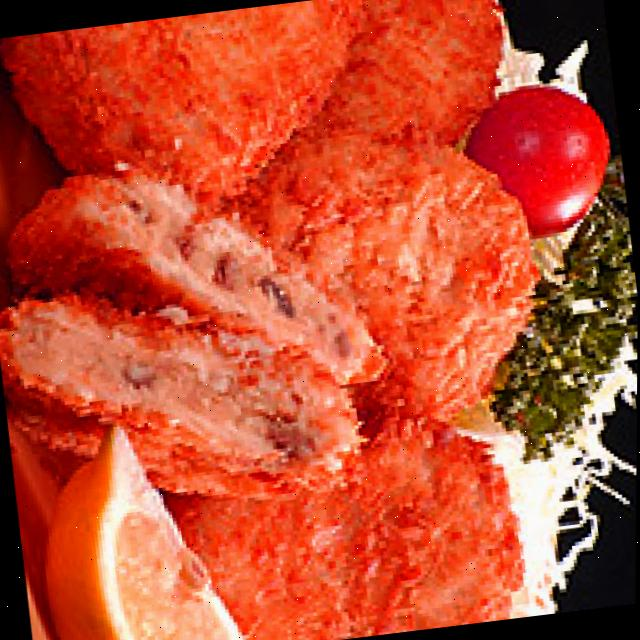炸货点心: (0, 0, 587, 640)
